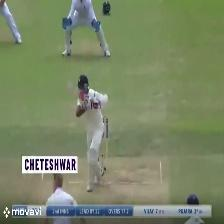batsman: (64, 75, 109, 191)
